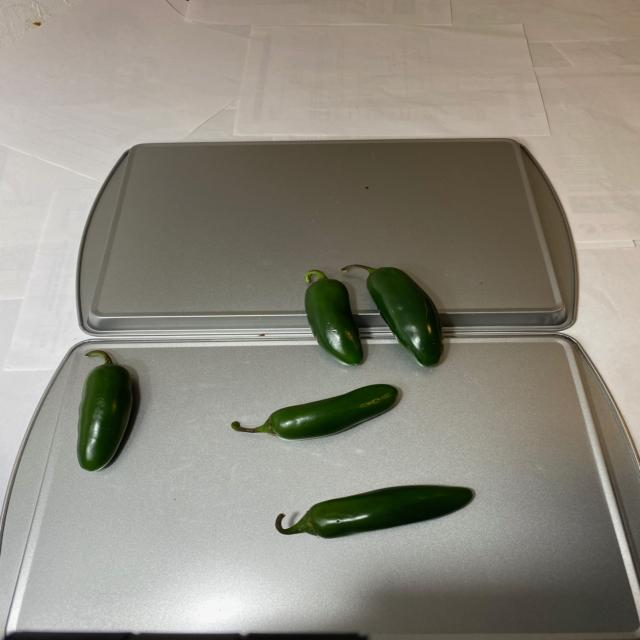chilli: (74, 263, 458, 541)
